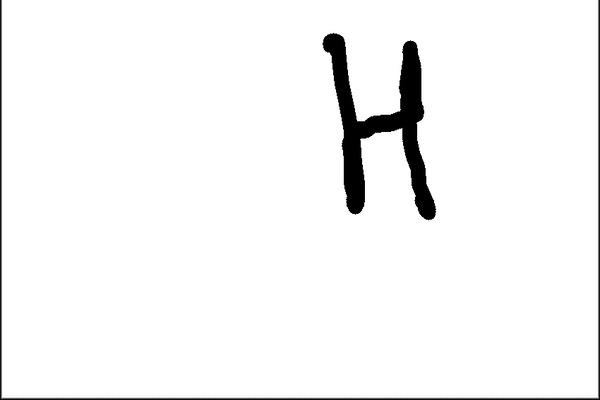H: (313, 24, 462, 223)
